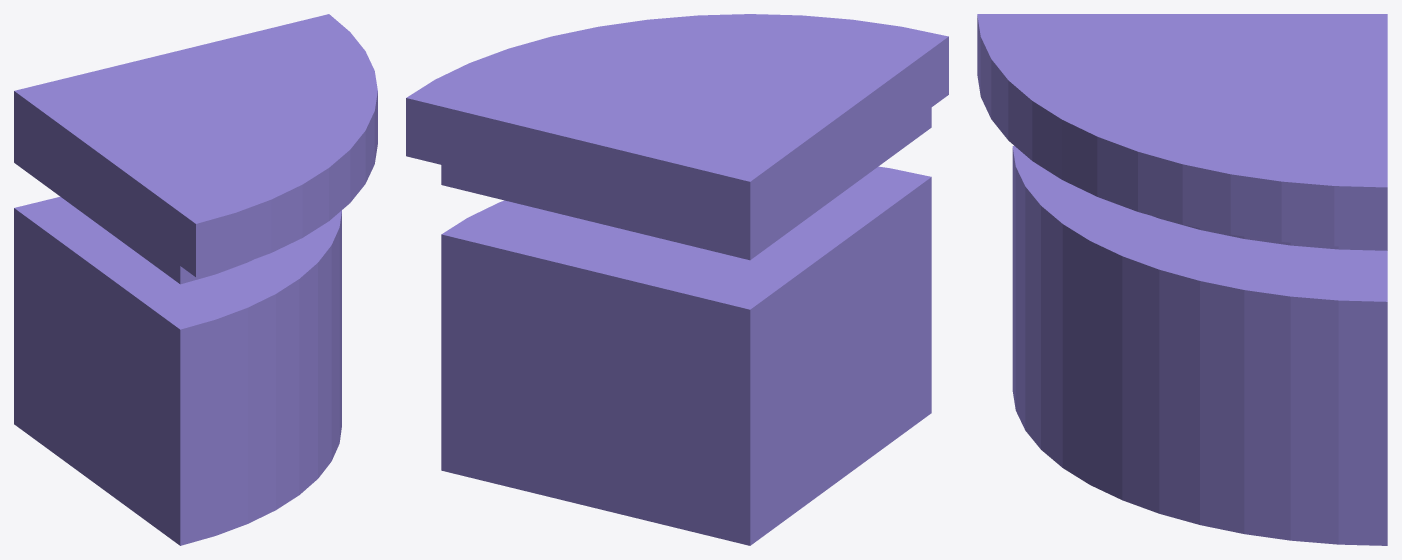
Rendered from Mesh_Counter_Corner_L.fbx.
3 renders of one model, left to right at view 1: azimuth 30°, elevation 25°; view 2: azimuth 150°, elevation 25°; view 3: azimuth 270°, elevation 25°, orthographic. The views are drawn at different scales.
Parts seen in each view (by area): view 1: CornerL_SGCabinet.002; view 2: CornerL_SGCabinet.002; view 3: CornerL_SGCabinet.002.
Boxes of the visible parts, x1,y1,x2,y2 form: CornerL_SGCabinet.002: (14,14,377,545); CornerL_SGCabinet.002: (406,14,948,545); CornerL_SGCabinet.002: (977,14,1387,545).
Size of the model in its own units: 236 by 238 by 236.
